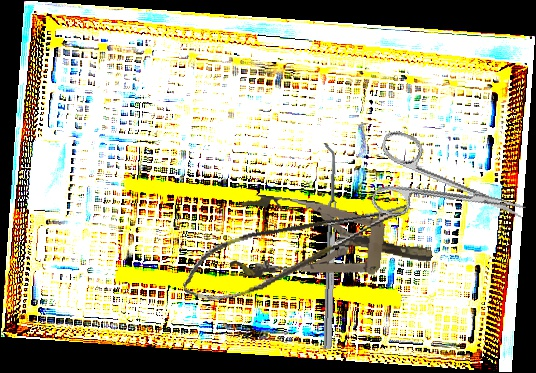Iris Scissors: (362, 127, 536, 255)
Micro Scissor: (174, 196, 419, 311)
Spatula Surgical: (315, 142, 339, 350)
Speculum: (228, 192, 437, 298)
